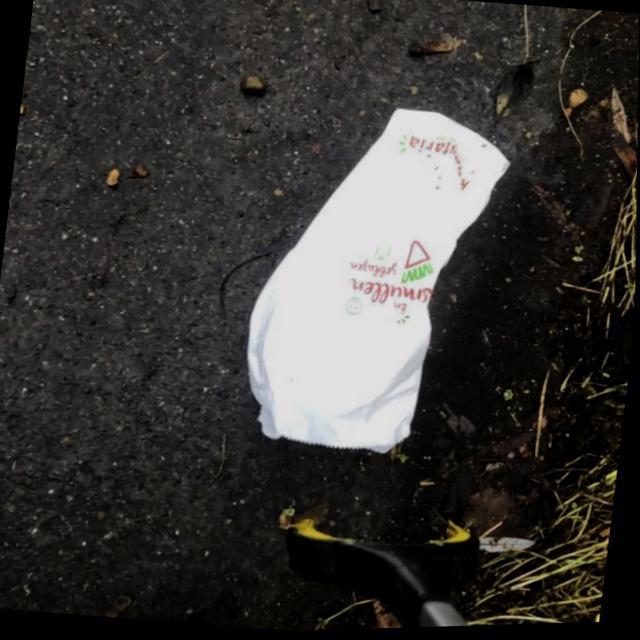Paper: (231, 94, 520, 472)
